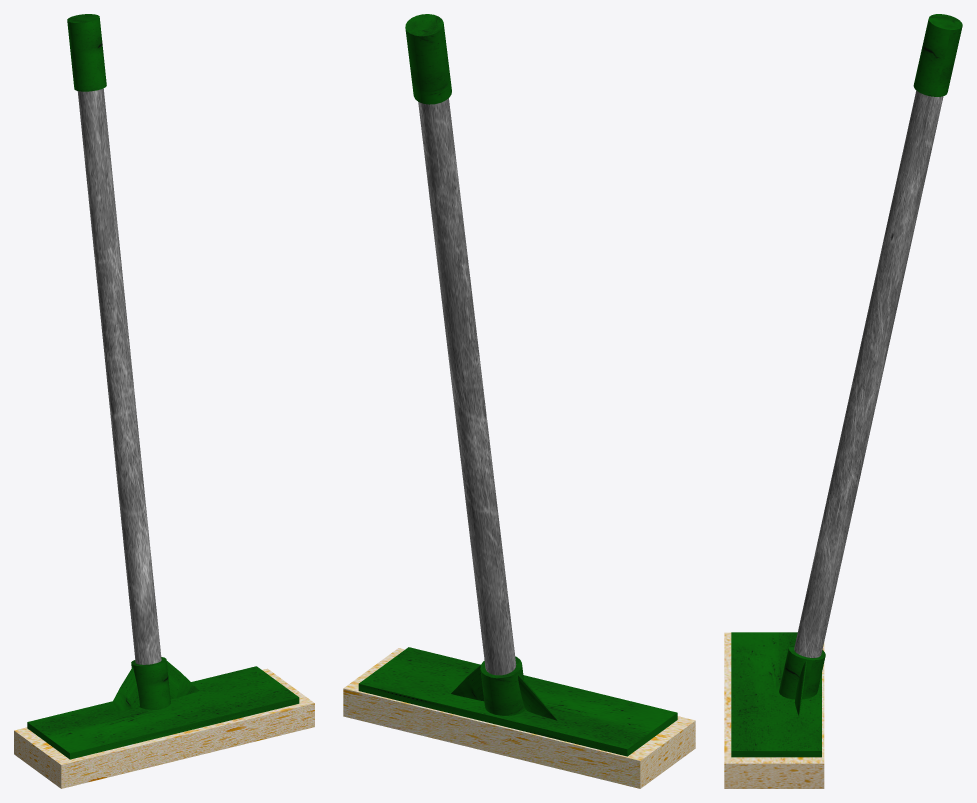
The model's file is EsfregaoRE1.fbx.
The picture shows the model from 3 angles, left to right: view 1: azimuth 30°, elevation 25°; view 2: azimuth 150°, elevation 25°; view 3: azimuth 270°, elevation 25°; orthographic projection. The views are drawn at different scales.
Visible parts, largest first — view 1: pCylinder1, pCube1, pCube2, pCylinder3, pCylinder2, pCone1, pCone2; view 2: pCylinder1, pCube1, pCube2, pCylinder3, pCylinder2, pCone1, pCone2; view 3: pCylinder1, pCube1, pCube2, pCylinder3, pCylinder2.
Boxes of the visible parts, box(x1,y1,x2,y2) form: pCylinder1: box(77, 88, 161, 664); pCube1: box(27, 666, 299, 759); pCube2: box(14, 668, 314, 788); pCylinder3: box(67, 14, 106, 91); pCylinder2: box(131, 657, 170, 709); pCone1: box(107, 667, 139, 712); pCone2: box(166, 661, 199, 699); pCylinder1: box(418, 98, 516, 675); pCube1: box(358, 647, 677, 756); pCube2: box(343, 648, 695, 788); pCylinder3: box(405, 14, 451, 104); pCylinder2: box(480, 656, 525, 715); pCone1: box(518, 674, 557, 720); pCone2: box(451, 665, 484, 701); pCylinder1: box(794, 91, 943, 657); pCube1: box(731, 632, 821, 757); pCube2: box(724, 632, 824, 788); pCylinder3: box(913, 14, 962, 96); pCylinder2: box(779, 643, 825, 699).
Bounding box in the file's own units: 0.4592 × 1.15 × 0.3536.
Materials: 3 (3 with a texture image).
